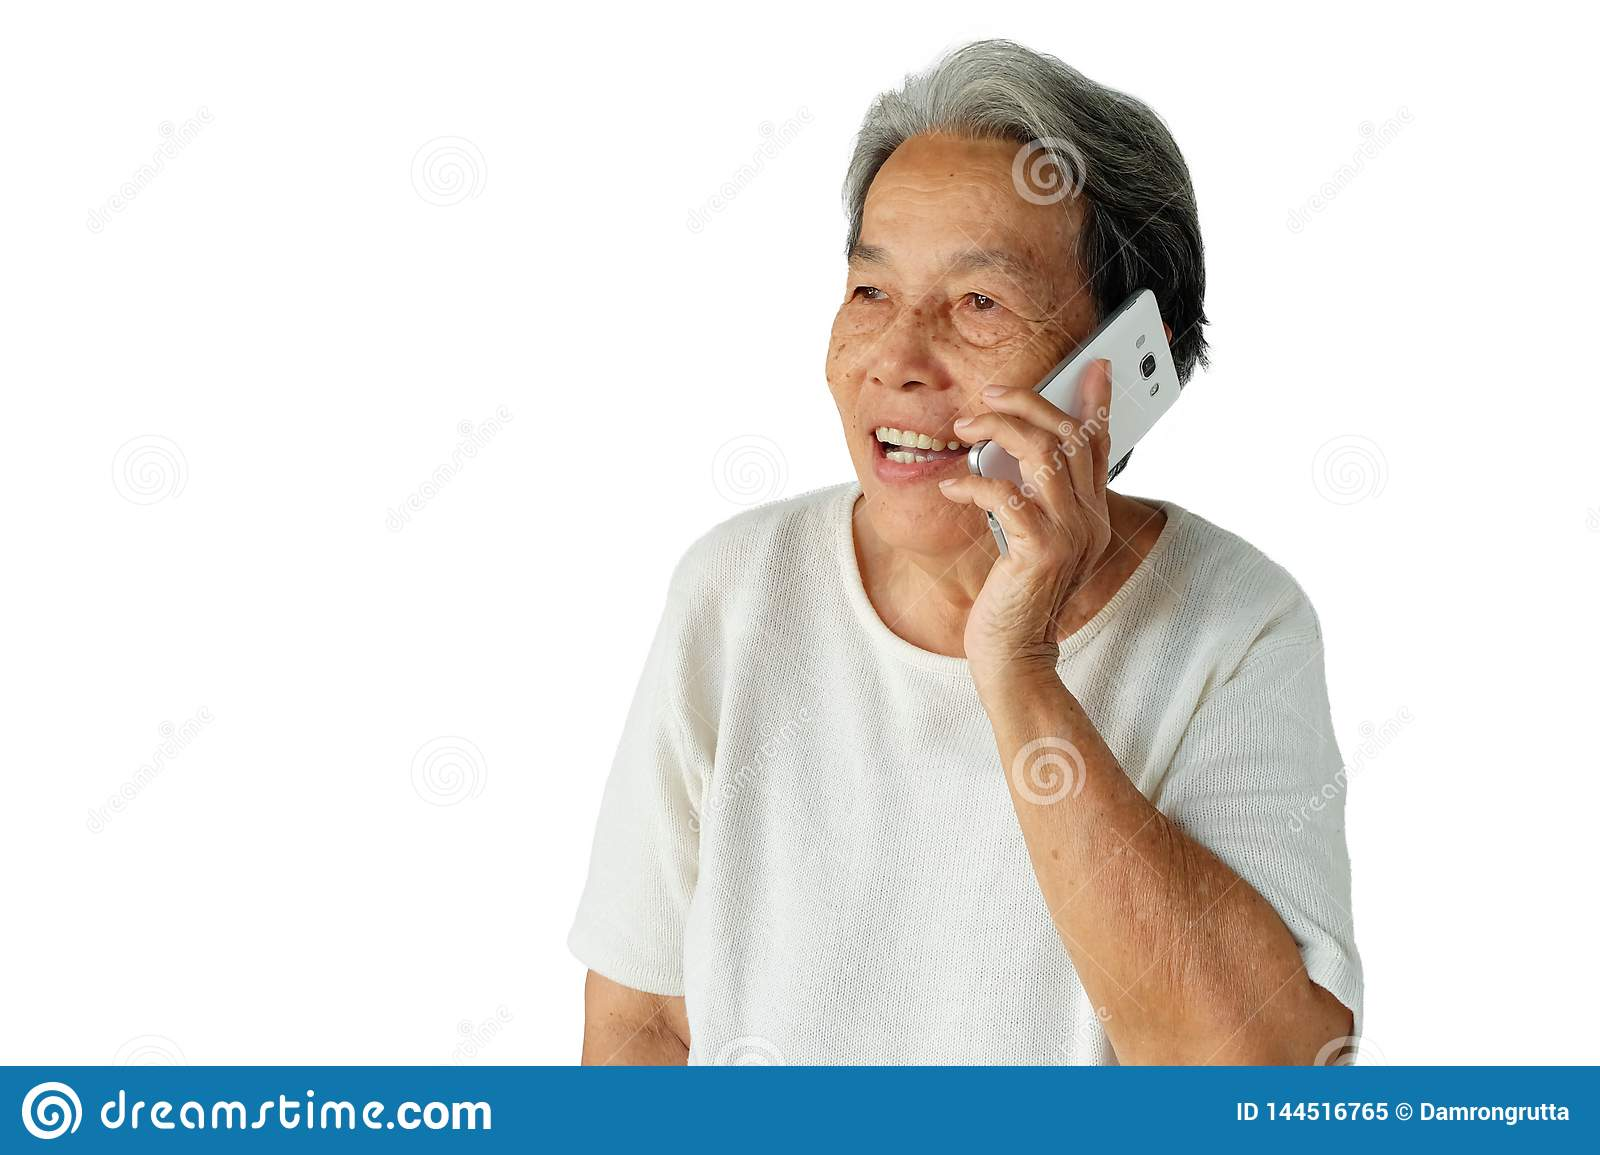phone: (976, 287, 1184, 564)
talk: (831, 232, 1188, 689)
